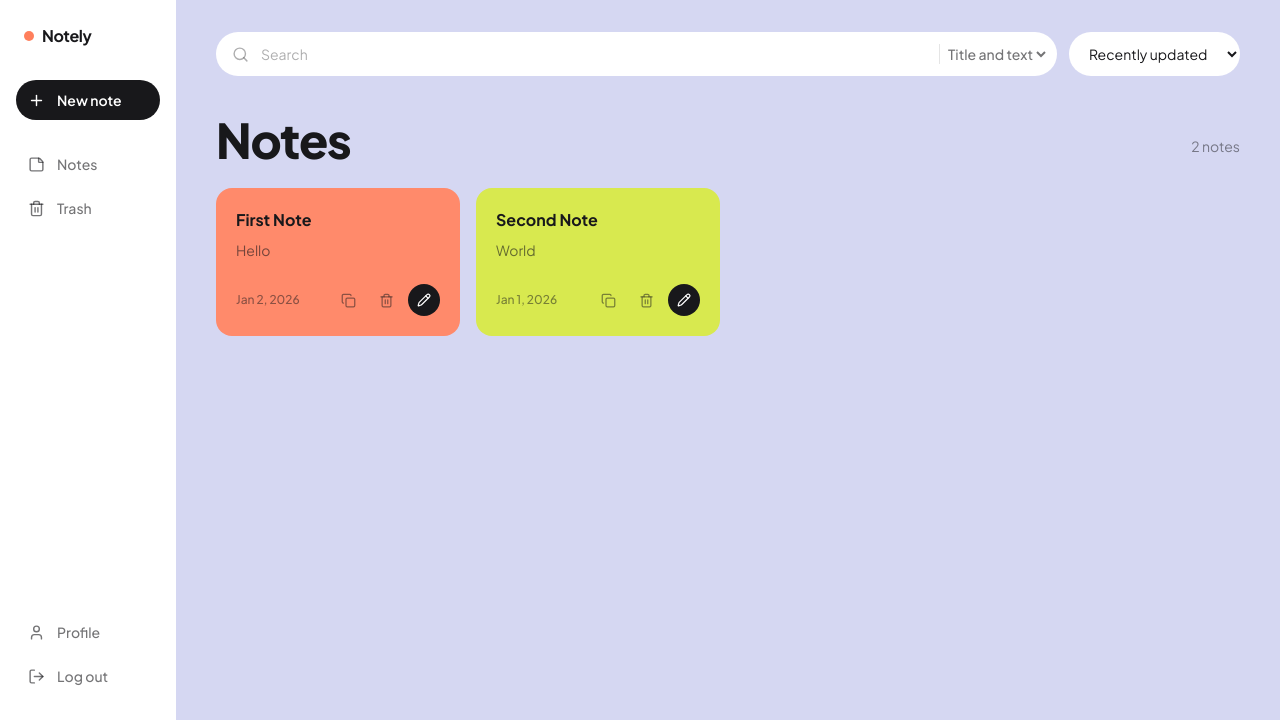
Test: reorders the notes when the sort is changed
The image size is (1280, 720).
Select "Title Z–A" in the dropdown named "Sort notes" at (1154, 54), box [1069,32,1240,76]
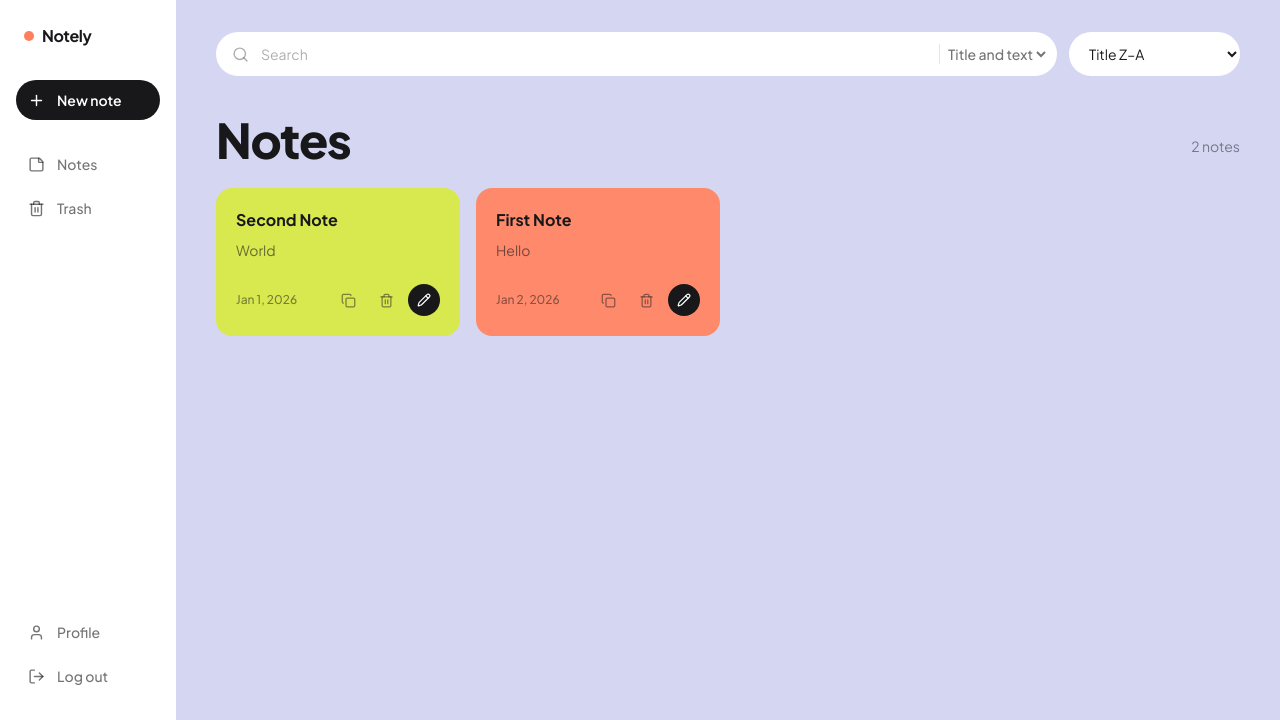
Check: the headings read "Second Note", "First Note", in this order, box [236,209,338,230]; [496,209,572,230]
